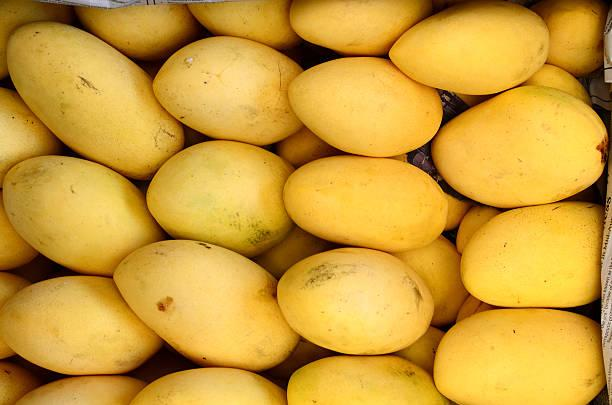mango: (5, 16, 184, 174), (108, 237, 298, 381), (272, 241, 450, 361), (428, 93, 612, 209), (151, 21, 307, 156), (1, 149, 163, 279), (422, 301, 612, 405), (278, 144, 451, 252), (0, 271, 157, 390), (143, 136, 302, 253), (293, 42, 443, 163), (456, 200, 612, 311), (391, 3, 552, 98), (284, 346, 461, 405), (128, 356, 290, 405), (284, 0, 425, 52), (8, 371, 142, 405)
